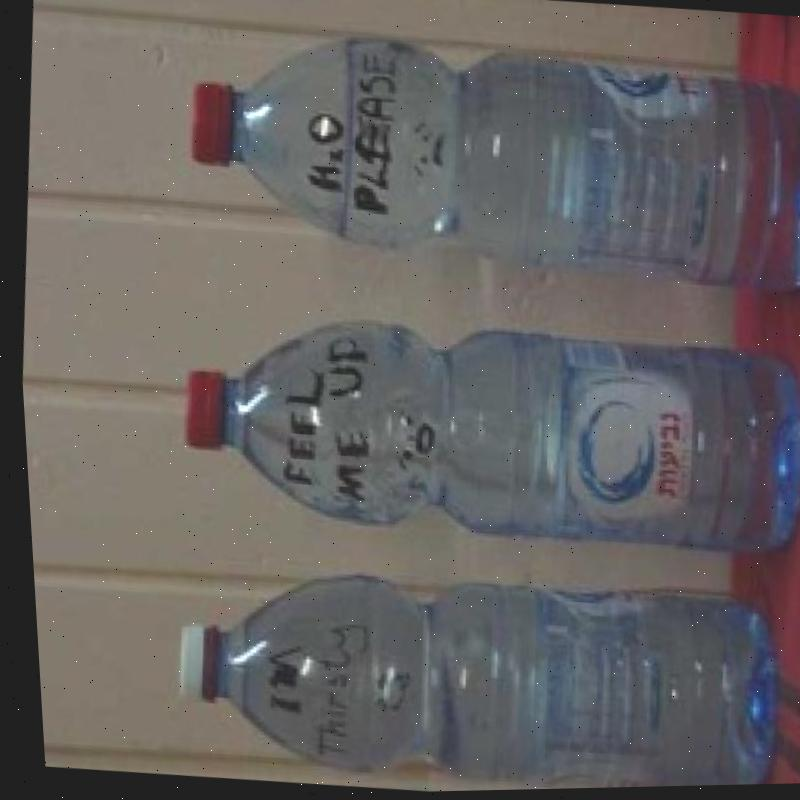botella: (170, 10, 800, 317), (166, 295, 800, 571), (157, 540, 778, 798)
